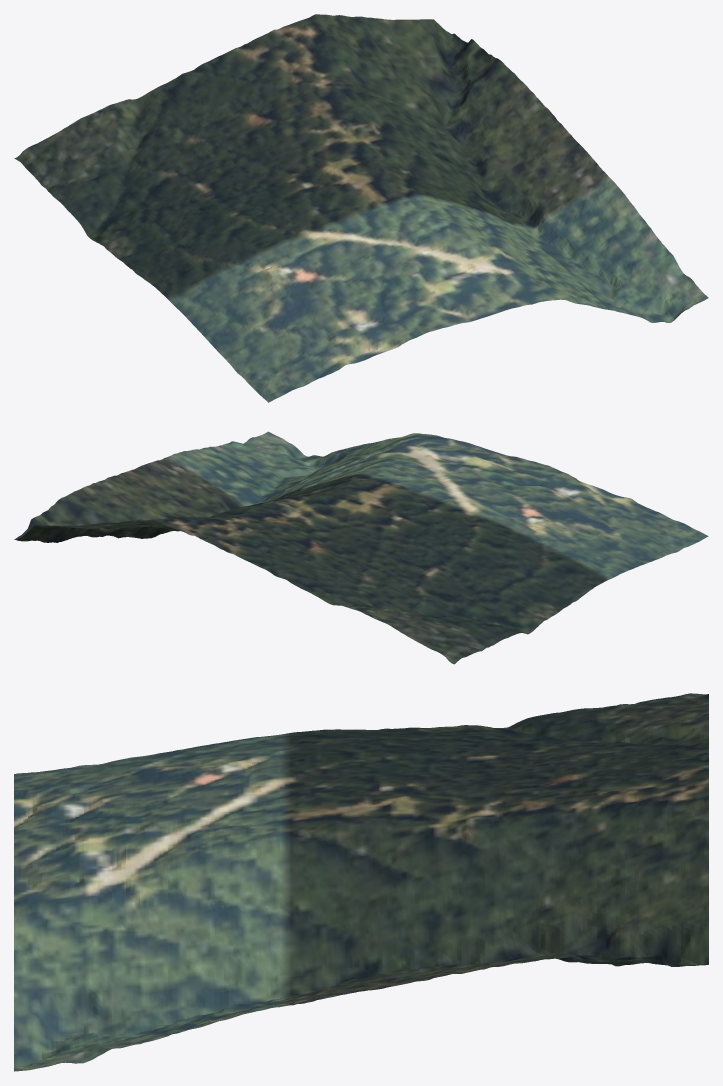
Rendered from terrain.obj.
3 renders of one model, top to bottom at view 1: azimuth 30°, elevation 25°; view 2: azimuth 150°, elevation 25°; view 3: azimuth 270°, elevation 25°, orthographic. The views are drawn at different scales.
Size of the model in its own units: 298 by 95.04 by 298.
Materials: 1 (1 with a texture image).
